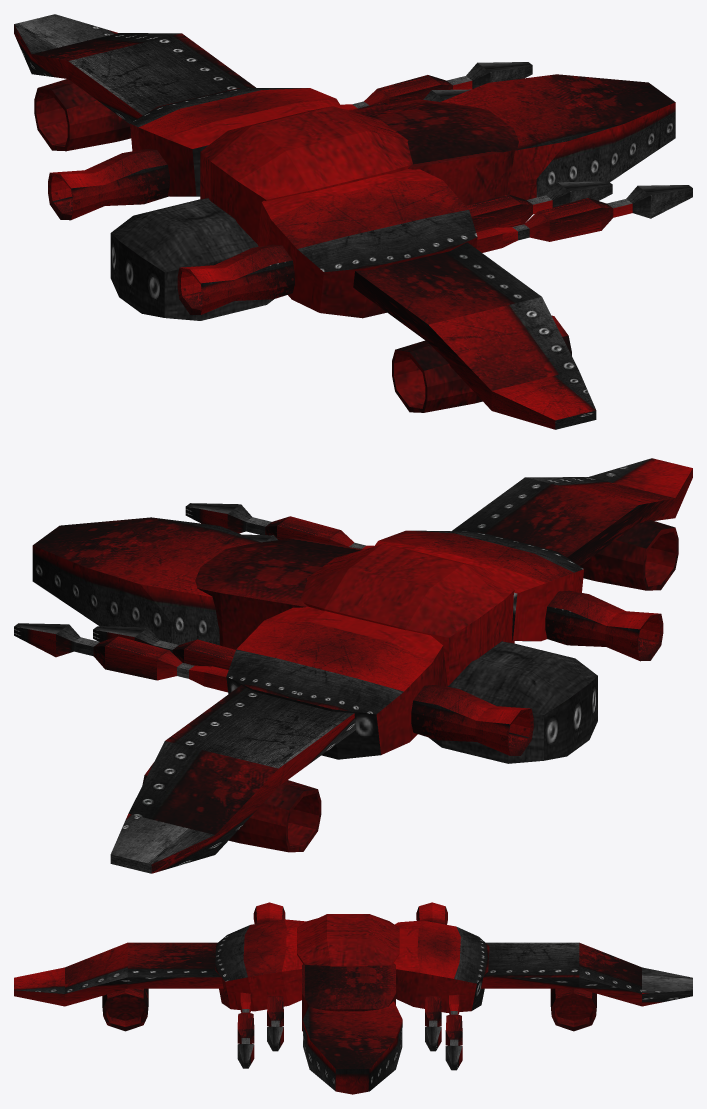
3 views of the same model, one above another, from view 1: azimuth 30°, elevation 25°; view 2: azimuth 150°, elevation 25°; view 3: azimuth 270°, elevation 25° (orthographic). The views are drawn at different scales.
Parts seen in each view (by area): view 1: wing1, body1.003, body3, body1, engin1, body1.002, body1.001, engin2, gun.001, gun.000, gun.002; view 2: wing1, body1.003, body3, body1, engin1, body1.002, engin2, body1.001, gun.002, gun.001, gun.003; view 3: wing1, body1.003, body3, body1, body1.001, engin2, gun.001, gun.002, engin1, gun.000, gun.003.
Boxes of the visible parts, left/top/right/bottom form: wing1: left=14, top=14, right=596, bottom=429; body1.003: left=130, top=88, right=477, bottom=318; body3: left=441, top=74, right=675, bottom=199; body1: left=200, top=106, right=412, bottom=243; engin1: left=48, top=149, right=294, bottom=314; body1.002: left=110, top=198, right=273, bottom=320; body1.001: left=349, top=99, right=518, bottom=205; engin2: left=34, top=79, right=571, bottom=412; gun.001: left=476, top=185, right=692, bottom=252; gun.000: left=466, top=181, right=612, bottom=231; gun.002: left=340, top=62, right=532, bottom=110; wing1: left=110, top=458, right=692, bottom=873; body1.003: left=226, top=530, right=583, bottom=759; body3: left=32, top=517, right=260, bottom=645; body1: left=301, top=544, right=514, bottom=685; engin1: left=411, top=590, right=663, bottom=755; body1.002: left=429, top=641, right=597, bottom=763; engin2: left=142, top=520, right=678, bottom=852; body1.001: left=195, top=538, right=363, bottom=649; gun.002: left=14, top=623, right=228, bottom=692; gun.001: left=185, top=503, right=373, bottom=549; gun.003: left=93, top=626, right=235, bottom=669; wing1: left=14, top=942, right=692, bottom=1006; body1.003: left=215, top=919, right=489, bottom=1012; body3: left=302, top=1001, right=402, bottom=1094; body1: left=297, top=914, right=399, bottom=966; body1.001: left=302, top=963, right=395, bottom=1031; engin2: left=102, top=988, right=596, bottom=1031; gun.001: left=237, top=992, right=254, bottom=1068; gun.002: left=445, top=994, right=462, bottom=1070; engin1: left=253, top=902, right=447, bottom=924; gun.000: left=267, top=995, right=283, bottom=1051; gun.003: left=425, top=995, right=441, bottom=1051.
Bounding box in the file's own units: 314 × 79.62 × 546.
